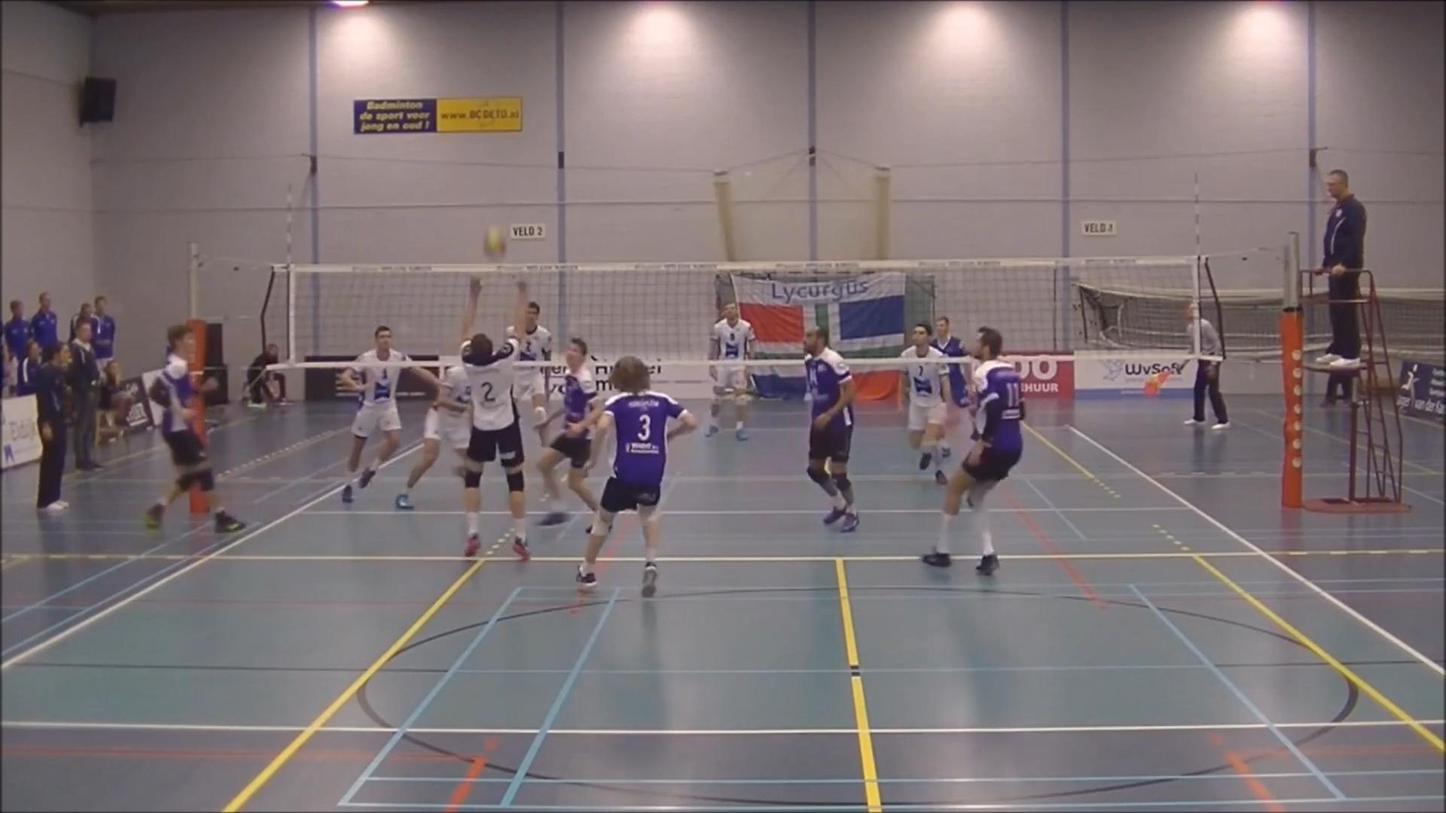Player: (567, 356, 697, 597), (922, 327, 1024, 574), (145, 324, 245, 532), (338, 325, 439, 503), (804, 326, 858, 531), (395, 365, 470, 509), (899, 322, 950, 483), (705, 303, 755, 440), (537, 431, 598, 525), (931, 316, 971, 412), (508, 302, 552, 361)
Set: (458, 273, 536, 560)
ball: (483, 230, 509, 260)
